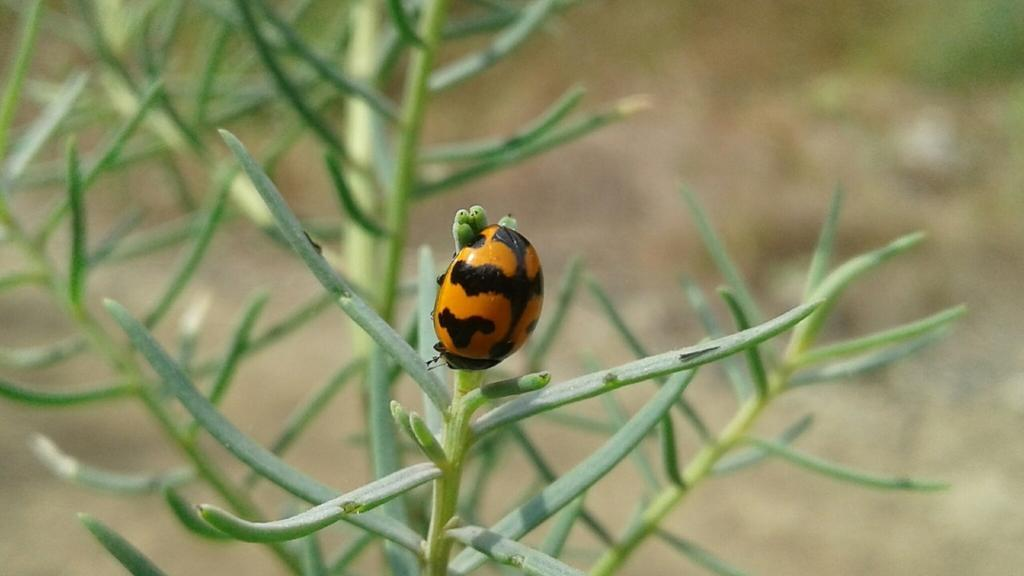ladybug: (424, 223, 548, 374)
